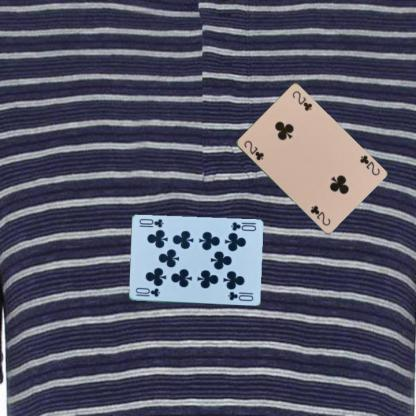10c: (228, 220, 257, 232), (133, 286, 161, 298)
2c: (241, 137, 265, 162), (357, 152, 381, 177)
